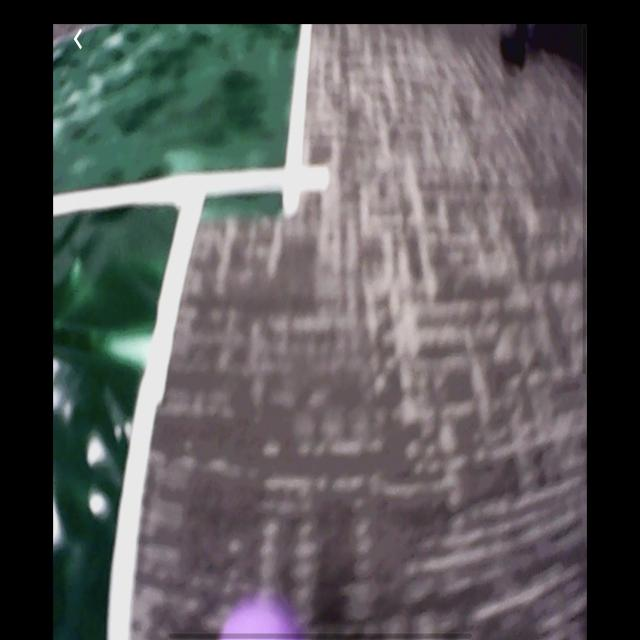ball: (219, 589, 311, 639)
